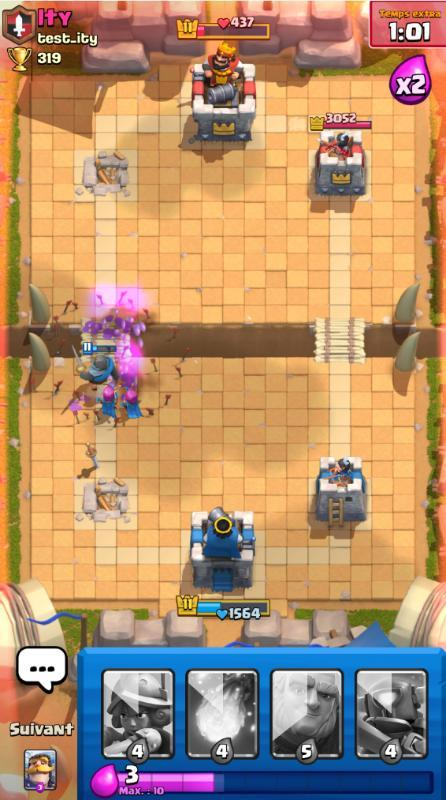archere: (96, 381, 119, 419), (121, 382, 144, 419)
chevalier: (71, 343, 119, 391)
